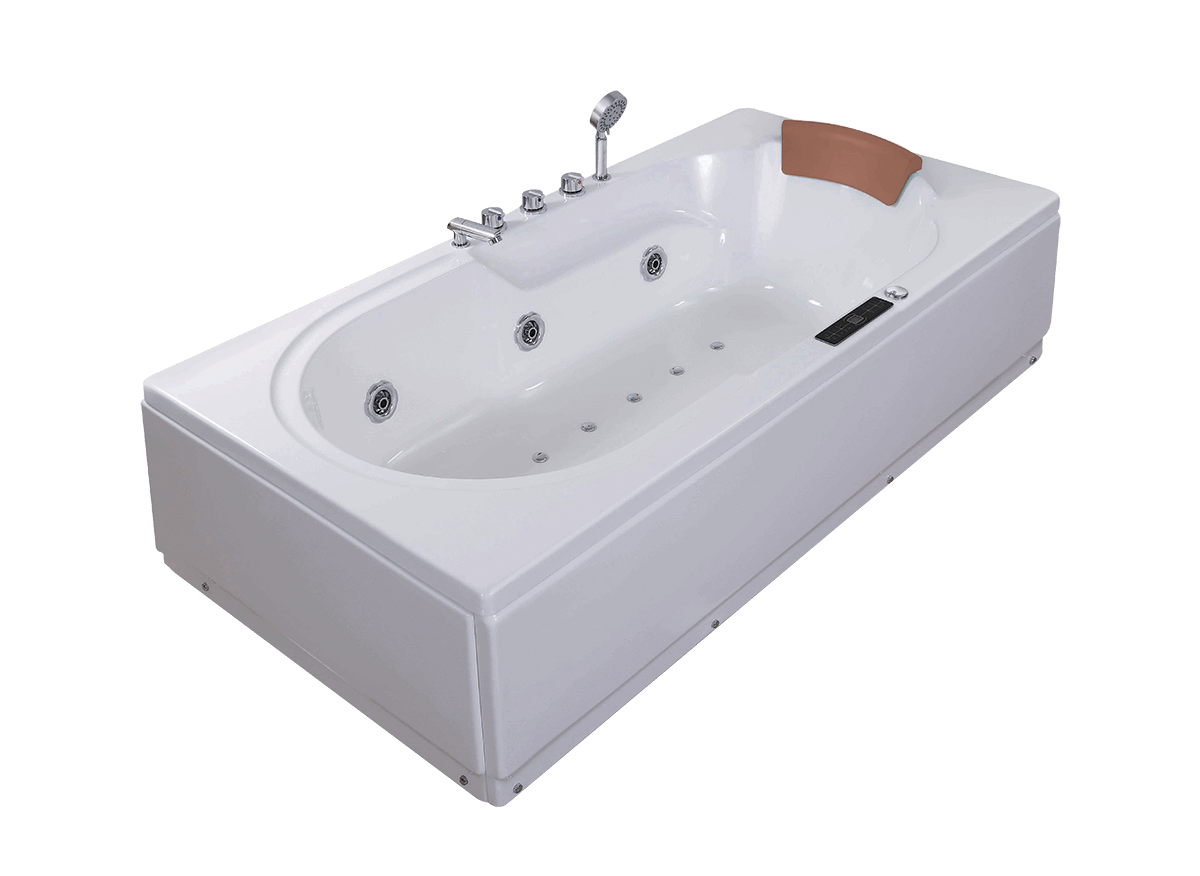bathub: (130, 90, 1093, 824)
